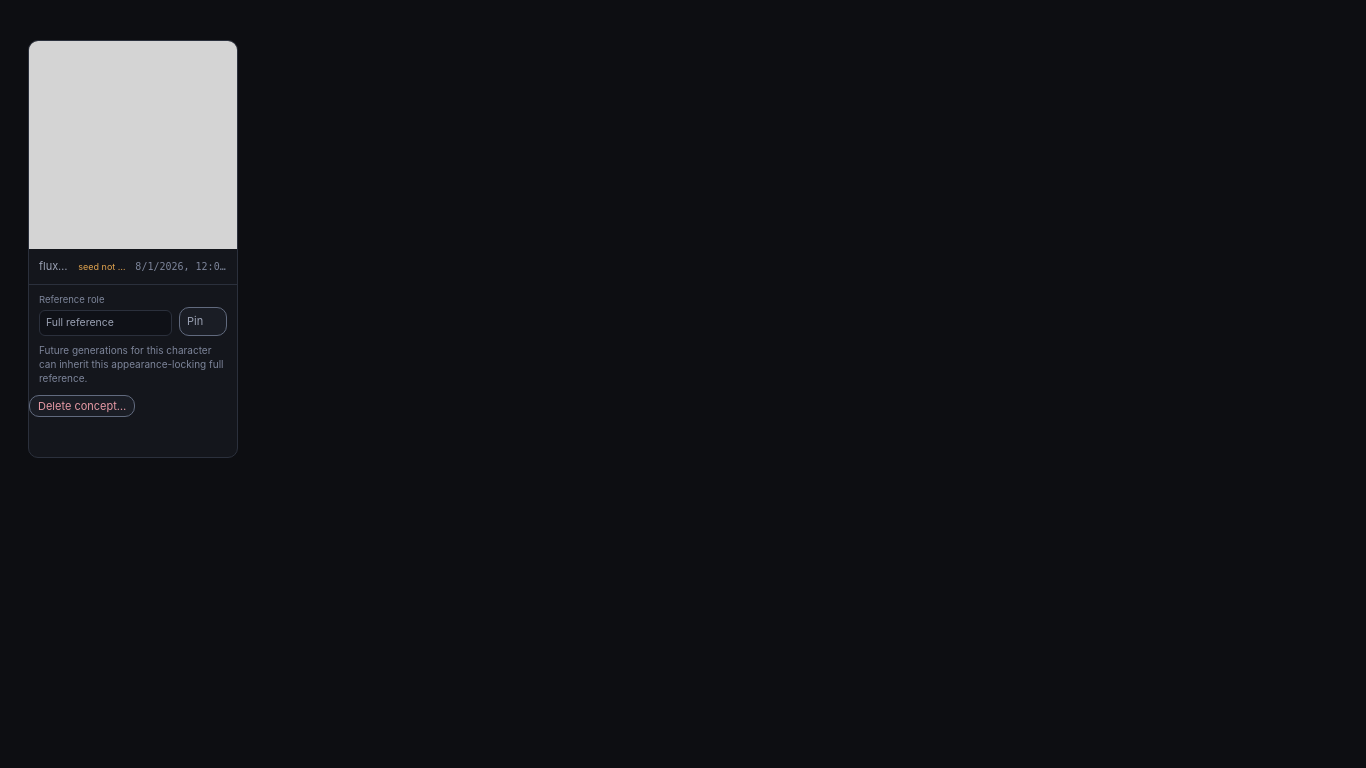
generation history › sends the menu’s delete through the same confirmation as the card’s
Press F10 in the element named "Concept from", box [28, 40, 238, 458]
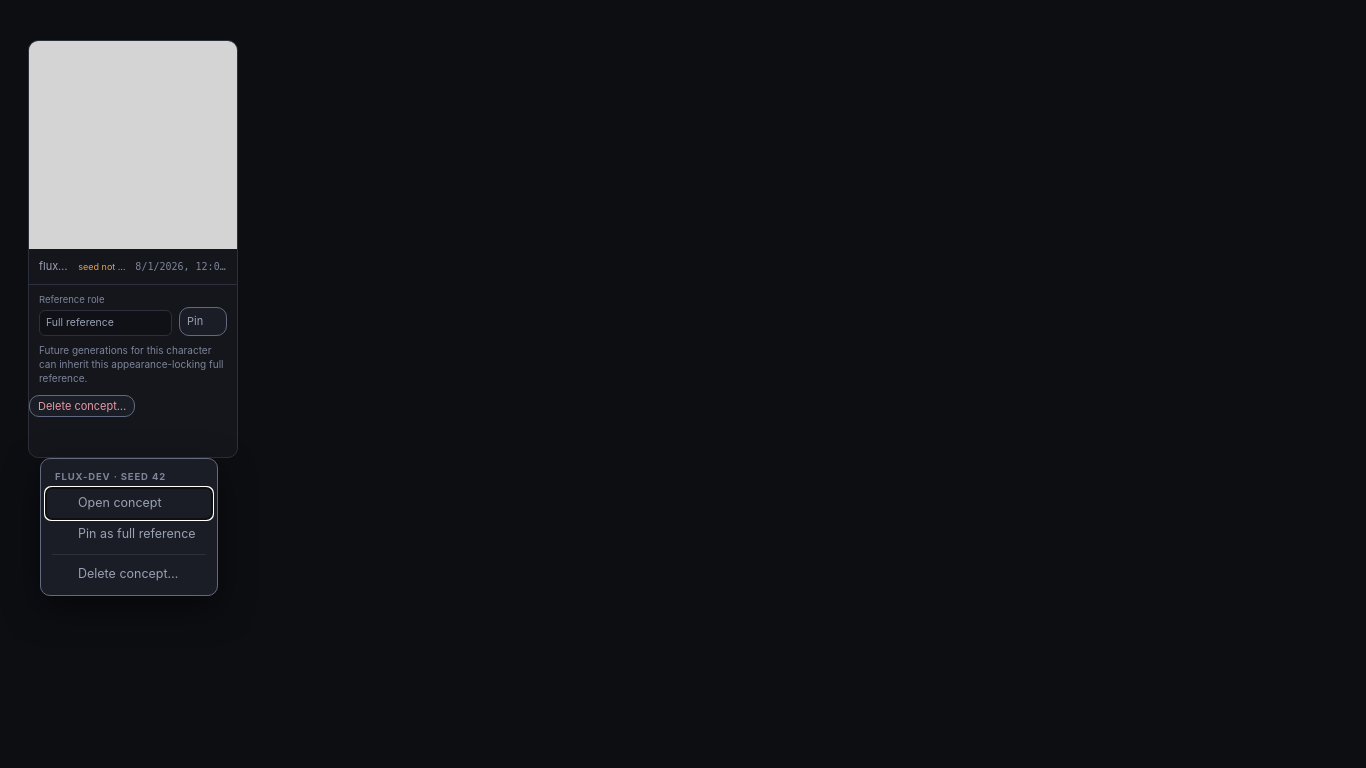
Click the menu item "Delete concept…": (129, 574) [46, 559, 212, 590]
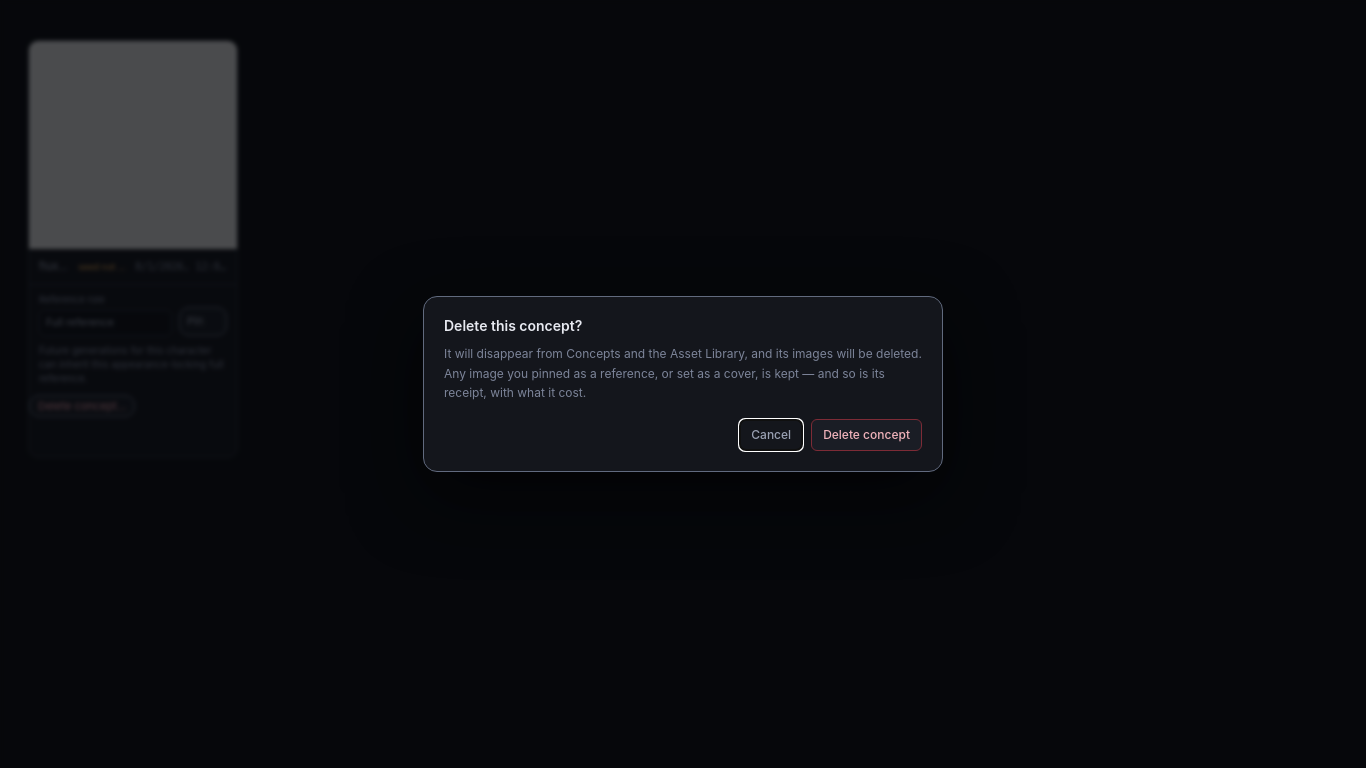
Result: the heading "Delete this concept?" is shown at [444, 317, 582, 334]
